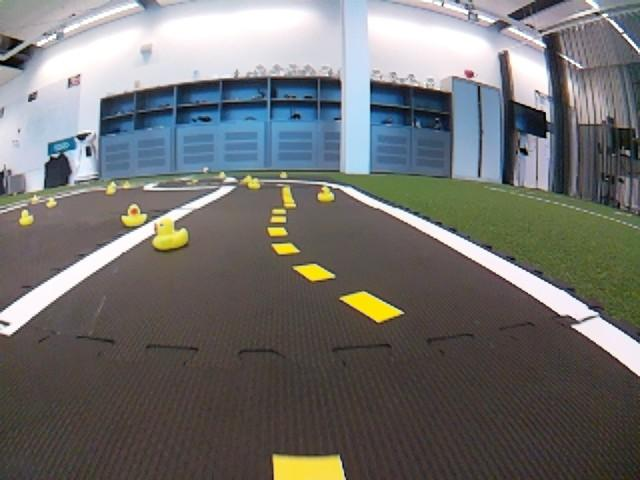Duckies: (151, 220, 189, 252), (121, 204, 148, 226), (19, 210, 34, 225), (318, 187, 334, 201), (46, 198, 57, 207), (249, 180, 261, 188), (122, 181, 132, 189), (279, 171, 288, 179), (105, 188, 115, 195), (240, 176, 250, 183), (218, 172, 226, 180), (31, 196, 39, 203), (109, 181, 116, 189)
